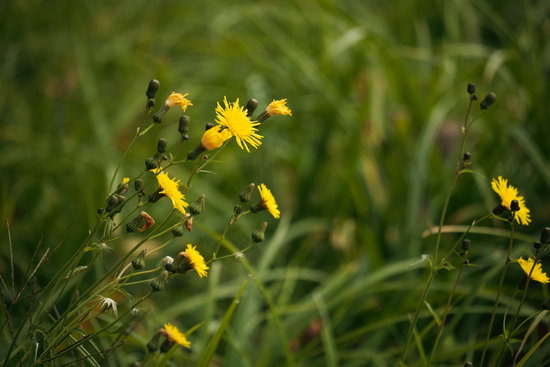dandelion: (210, 101, 270, 150), (489, 164, 534, 226), (152, 162, 192, 217), (250, 179, 285, 221), (161, 315, 191, 353), (179, 244, 207, 276)
